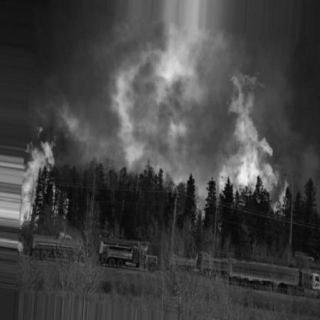Fire: (17, 120, 81, 234)
